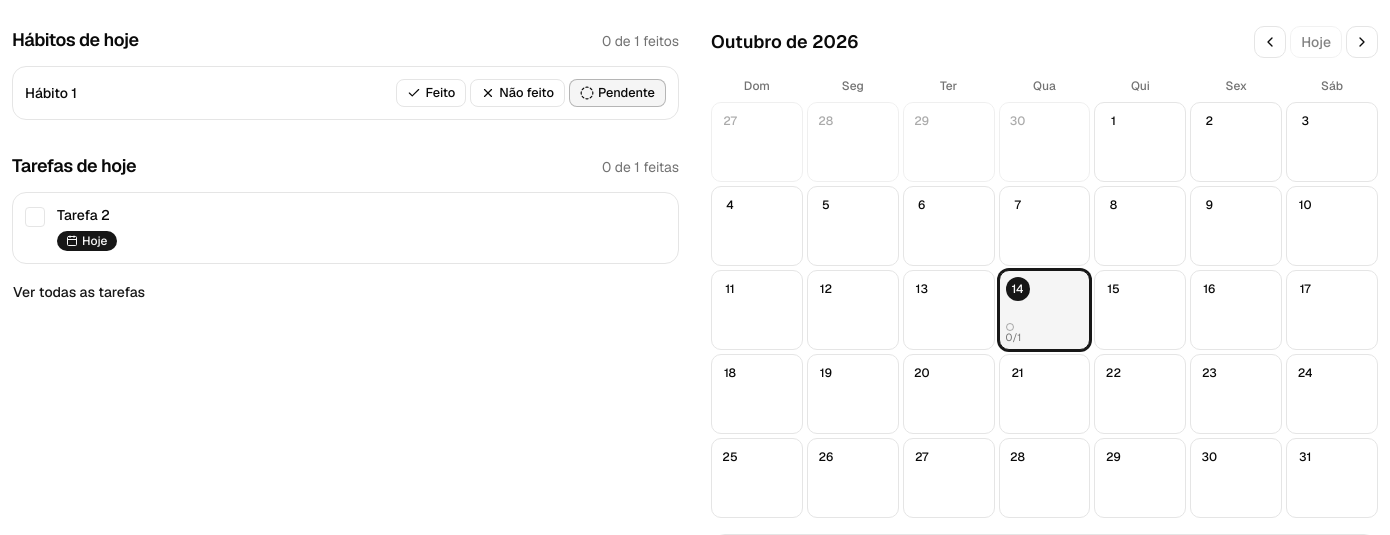
TodayView › updates today's progress card when a habit is marked as done
Step 1. Click the button "Feito" below "Hábitos de hoje" → (431, 93), box x1=396 y1=79 x2=466 y2=107
(page scrolled)
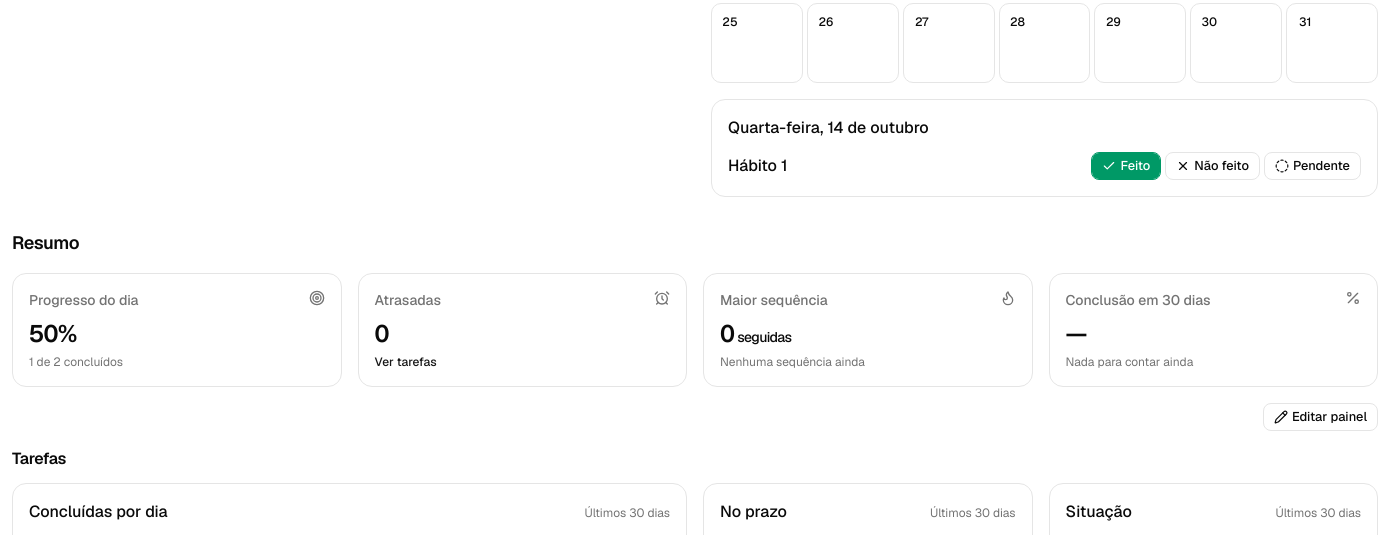
Expected: the element "Progresso do dia" shows "50%", x1=29 y1=318 x2=77 y2=349
Expected: the element "Progresso do dia" shows "1 de 2 concluídos", x1=29 y1=354 x2=123 y2=370
